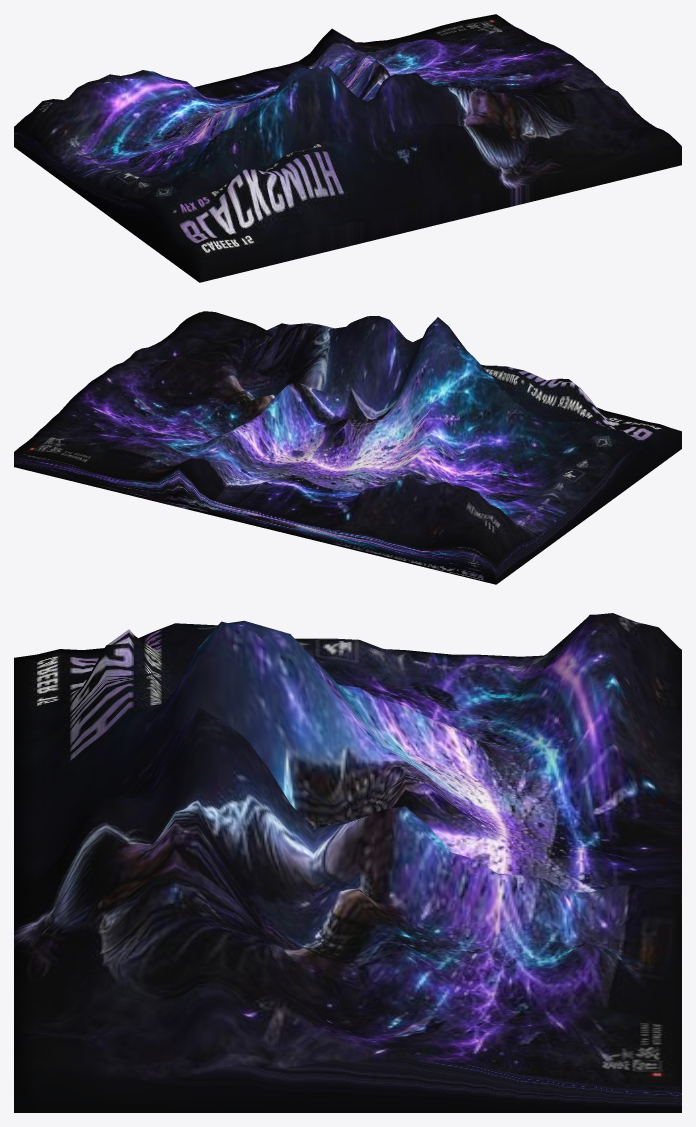
Rendered from CAREER_15_VFX_02_Impact.glb.
3 views of the same model, one above another, from view 1: azimuth 30°, elevation 25°; view 2: azimuth 150°, elevation 25°; view 3: azimuth 270°, elevation 25° (orthographic). The views are drawn at different scales.
Parts seen in each view (by area): view 1: CAREER_15_VFX_02_Impact; view 2: CAREER_15_VFX_02_Impact; view 3: CAREER_15_VFX_02_Impact.
Boxes of the visible parts, x1=… form: CAREER_15_VFX_02_Impact: x1=14, y1=14, x2=681, y2=282; CAREER_15_VFX_02_Impact: x1=14, y1=311, x2=681, y2=584; CAREER_15_VFX_02_Impact: x1=14, y1=613, x2=681, y2=1112.
Size of the model in its own units: 2 by 0.51 by 1.33.
1 material, 1 textured.
